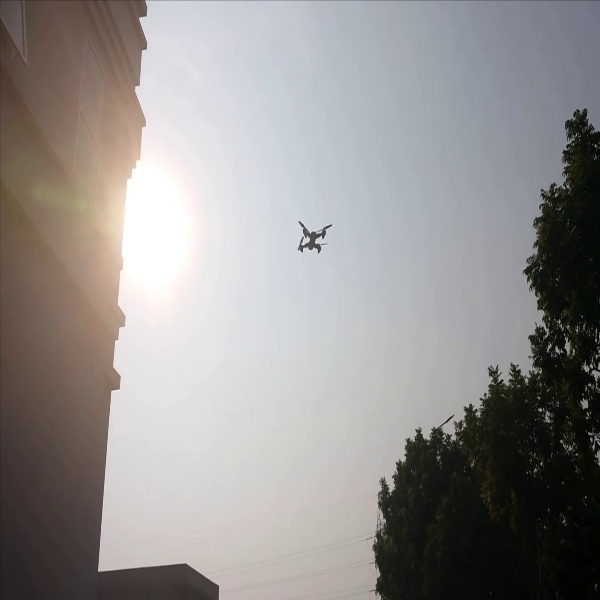drone: (292, 216, 336, 257)
